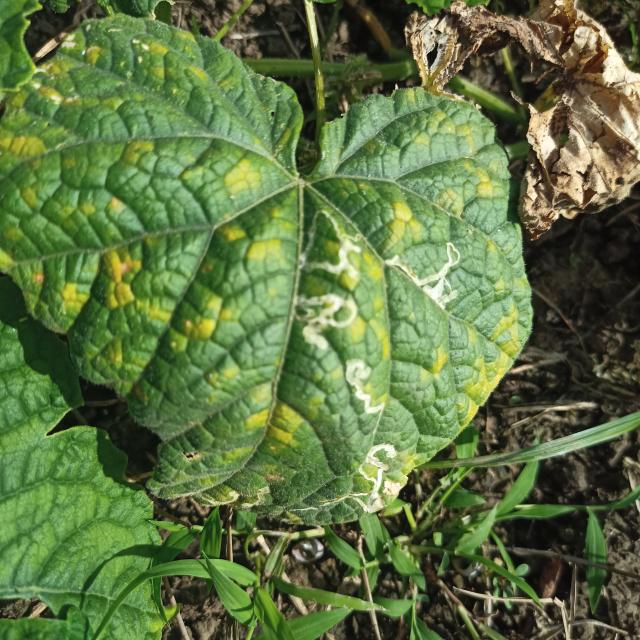disease_cucumber: (35, 30, 513, 506)
